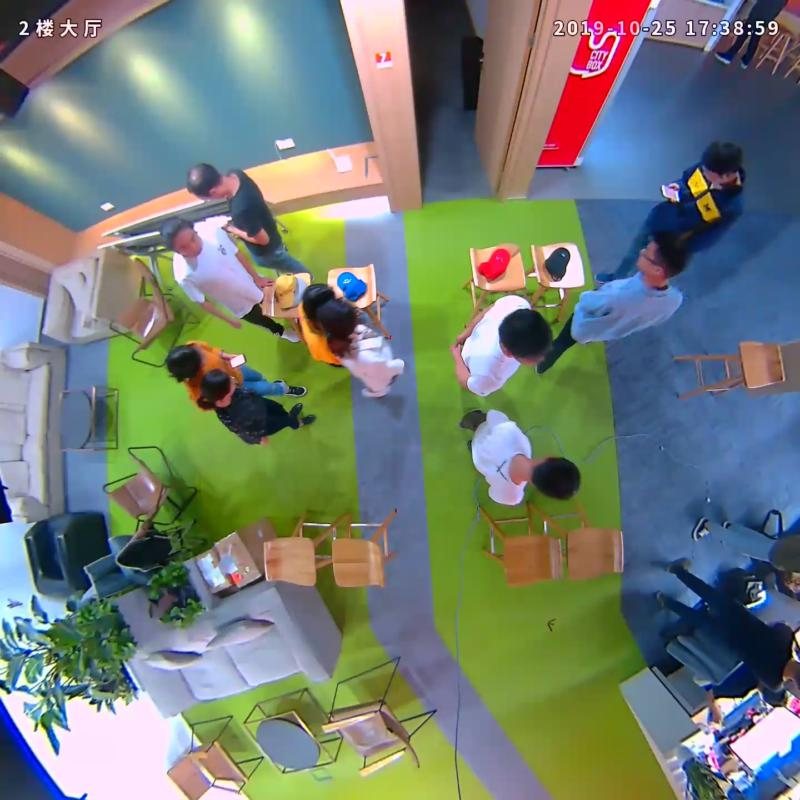head: (498, 308, 552, 369), (635, 231, 689, 277), (531, 455, 581, 501), (159, 215, 203, 256), (701, 141, 743, 182), (315, 297, 356, 337), (184, 163, 224, 200), (165, 343, 204, 379), (199, 369, 237, 400)
